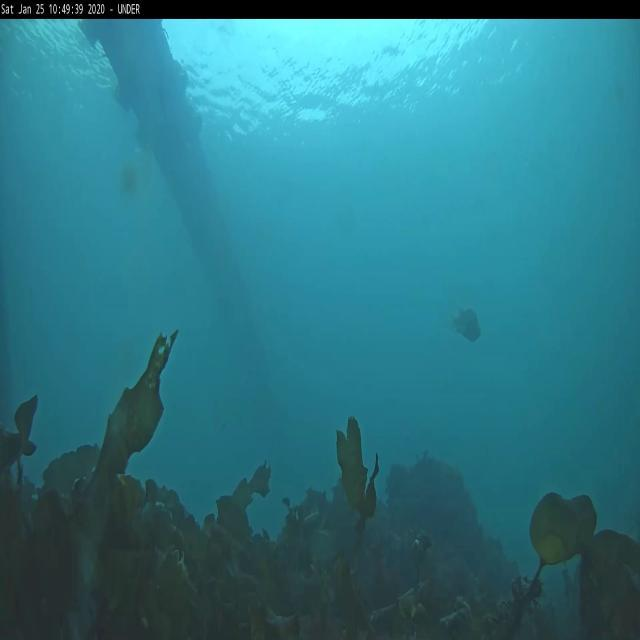fish: (453, 304, 483, 342)
